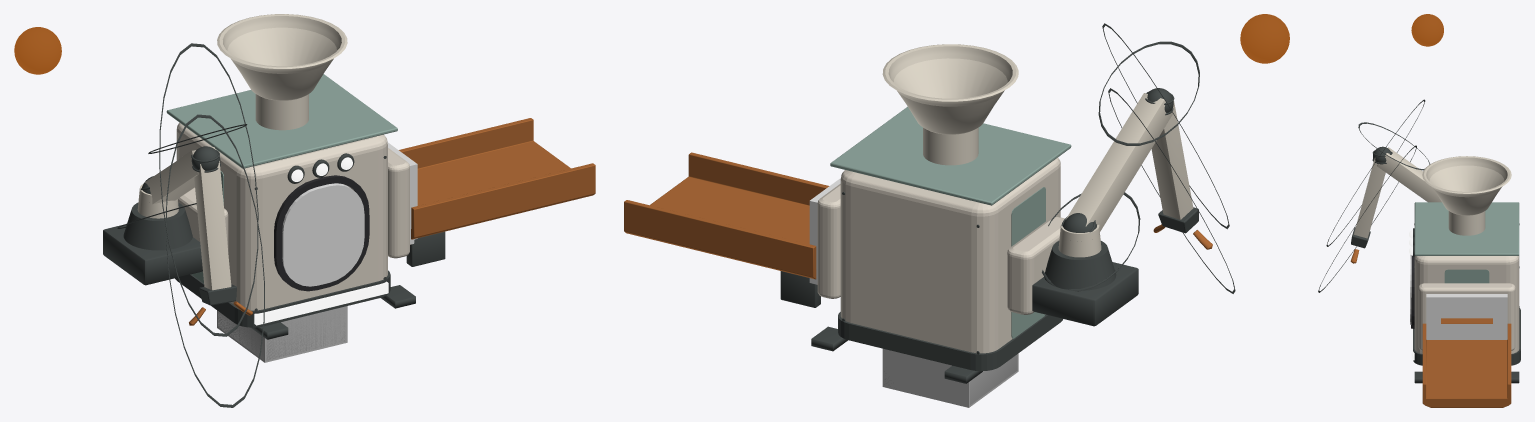
File: hero_animation_v13_p2.glb
The picture shows the model from 3 angles, left to right: view 1: azimuth 30°, elevation 25°; view 2: azimuth 150°, elevation 25°; view 3: azimuth 270°, elevation 25°; orthographic projection. The views are drawn at different scales.
Parts seen in each view (by area): view 1: Machine_Body, Machine_Chute, Machine_Hopper, Machine_Panel_Top, Cutter_Window, Product_Proxy_FitCheck, Arm_Forearm, Arm_Mount, Product, Arm_Seams_Fore, Machine_WindowFrame, P1_ChuteSeat (+11 smaller); view 2: Machine_Body, Machine_Chute, Machine_Panel_Top, Machine_Hopper, Arm_UpperArm, P1_BaseBand, Arm_Mount, Product_Proxy_FitCheck, P1_ShoulderBay, Arm_Forearm, P1_ChuteSeat, Arm_Base (+9 smaller); view 3: Machine_Chute, Machine_Hopper, Machine_Panel_Top, P1_Cutter_SeatOpen, Machine_Body, P1_ChuteSeat, Arm_UpperArm, Arm_Forearm, Idea, P1_MintStrip_R, Arm_Seams_Fore, P1_BaseBand (+6 smaller).
Part boxes in pixels (bbox=[...]): Machine_Body: bbox=[176, 122, 387, 310]; Machine_Chute: bbox=[399, 118, 595, 244]; Machine_Hopper: bbox=[217, 14, 347, 130]; Machine_Panel_Top: bbox=[166, 74, 397, 168]; Cutter_Window: bbox=[282, 183, 364, 286]; Product_Proxy_FitCheck: bbox=[217, 306, 347, 362]; Arm_Forearm: bbox=[194, 161, 231, 290]; Arm_Mount: bbox=[103, 224, 202, 285]; Product: bbox=[218, 307, 345, 360]; Arm_Seams_Fore: bbox=[159, 43, 264, 407]; Machine_WindowFrame: bbox=[274, 175, 369, 291]; P1_ChuteSeat: bbox=[388, 148, 409, 258]; Machine_Body: bbox=[840, 157, 1060, 353]; Machine_Chute: bbox=[624, 152, 829, 279]; Machine_Panel_Top: bbox=[830, 106, 1071, 205]; Machine_Hopper: bbox=[882, 44, 1018, 165]; Arm_UpperArm: bbox=[1065, 93, 1172, 231]; P1_BaseBand: bbox=[838, 312, 1062, 371]; Arm_Mount: bbox=[1032, 262, 1138, 326]; Product_Proxy_FitCheck: bbox=[882, 348, 1018, 407]; P1_ShoulderBay: bbox=[1007, 217, 1064, 314]; Arm_Forearm: bbox=[1151, 100, 1193, 219]; P1_ChuteSeat: bbox=[817, 184, 840, 298]; Arm_Base: bbox=[1044, 241, 1116, 290]; Machine_Chute: bbox=[1422, 323, 1511, 407]; Machine_Hopper: bbox=[1422, 156, 1511, 235]; Machine_Panel_Top: bbox=[1414, 202, 1519, 255]; P1_Cutter_SeatOpen: bbox=[1426, 294, 1507, 339]; Machine_Body: bbox=[1414, 256, 1519, 353]; P1_ChuteSeat: bbox=[1418, 283, 1515, 350]; Arm_UpperArm: bbox=[1377, 147, 1441, 202]; Arm_Forearm: bbox=[1354, 158, 1385, 238]; Idea: bbox=[1411, 14, 1443, 46]; P1_MintStrip_R: bbox=[1444, 269, 1489, 283]; Arm_Seams_Fore: bbox=[1318, 99, 1425, 292]; P1_BaseBand: bbox=[1413, 308, 1520, 365].
Size of the model in its own units: 6.95 by 4.55 by 3.1.
